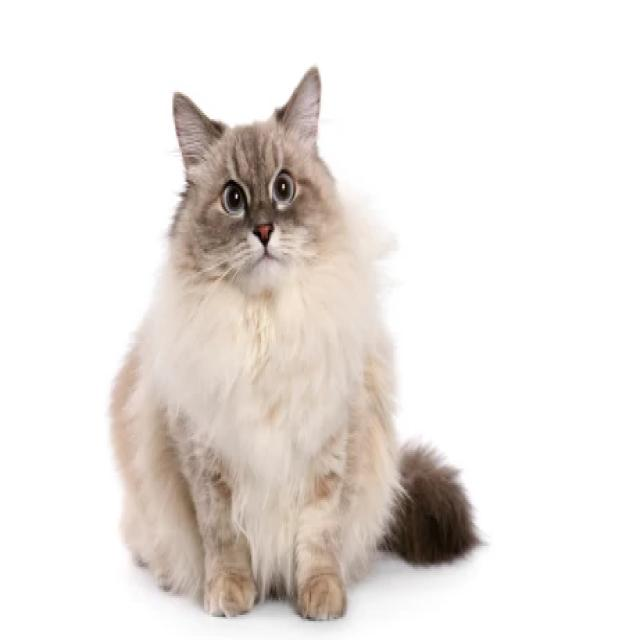Neva Masquerade: (103, 64, 484, 629)
